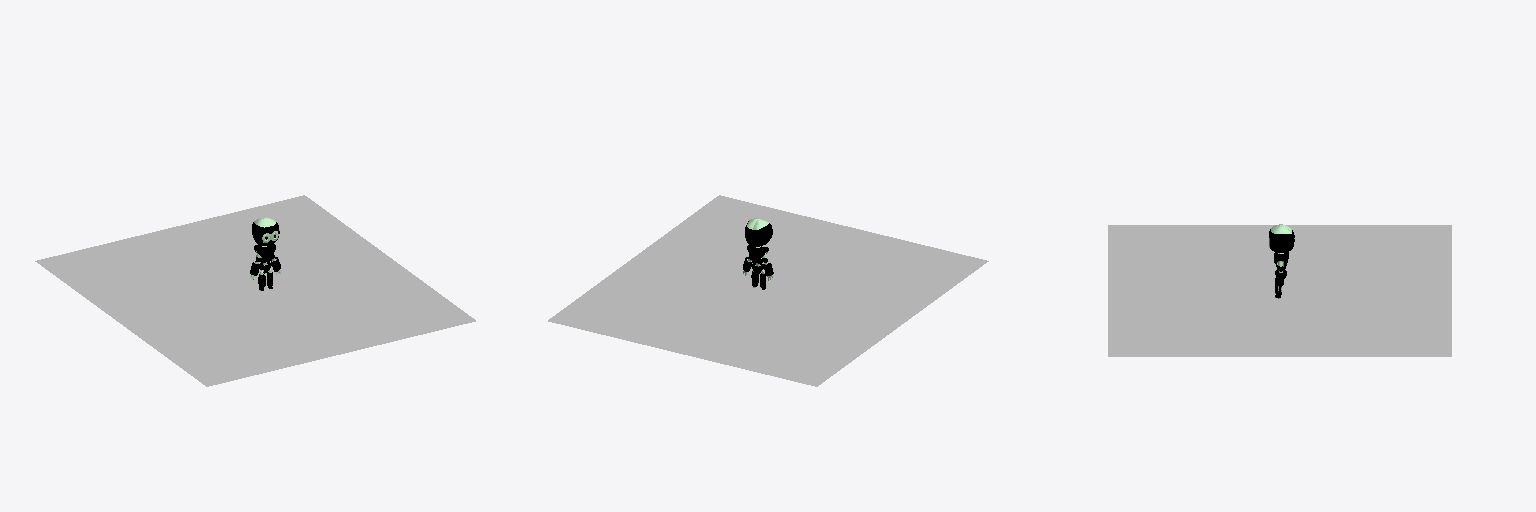
File: uploads_files_2493695_robot.obj
3 views of the same model, side by side, from view 1: azimuth 30°, elevation 25°; view 2: azimuth 150°, elevation 25°; view 3: azimuth 270°, elevation 25° (orthographic).
Parts seen in each view (by area): view 1: Plane, Sphere; view 2: Plane, Sphere; view 3: Plane, Sphere.
Boxes of the visible parts, <box> form: Plane: <box>35,195,475,386</box>; Sphere: <box>250,217,280,290</box>; Plane: <box>548,195,988,386</box>; Sphere: <box>743,218,773,289</box>; Plane: <box>1108,225,1451,356</box>; Sphere: <box>1269,224,1294,298</box>.
Size of the model in its own units: 3.62 by 0.9 by 4.